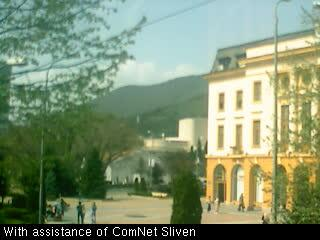person: (76, 201, 85, 224), (237, 193, 246, 212), (91, 202, 98, 223), (206, 195, 212, 215), (214, 198, 221, 215), (261, 211, 270, 224), (60, 197, 66, 216), (48, 204, 53, 218)
